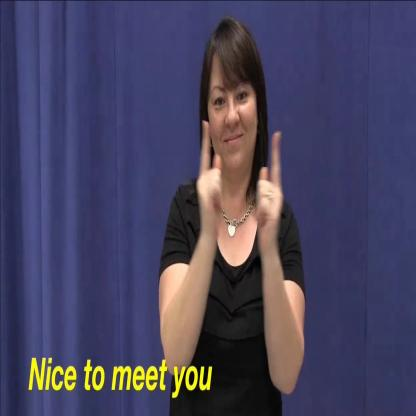NiceToMeetYou: (186, 104, 290, 271)
